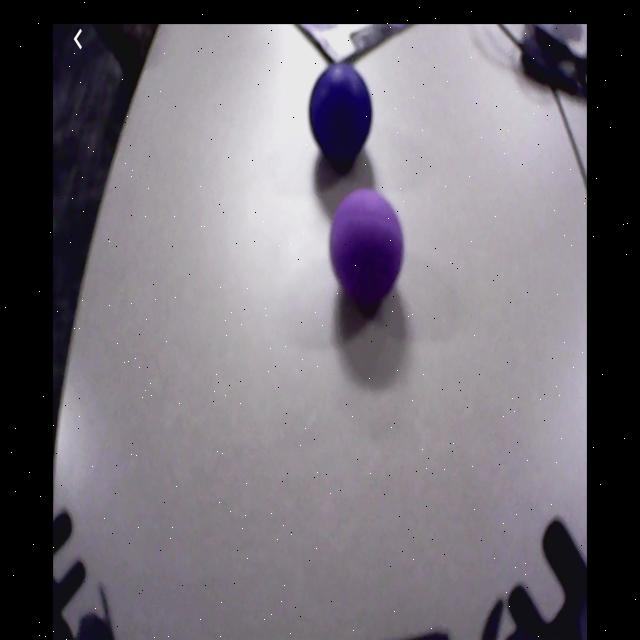ball: (330, 188, 404, 304), (308, 62, 373, 162)
